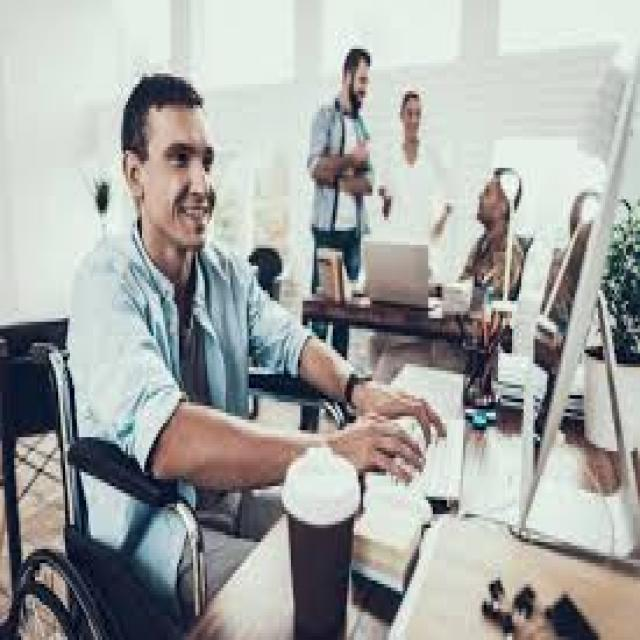wheelchairs: (10, 328, 294, 636)
